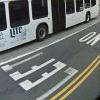Bus: (1, 0, 97, 50)
